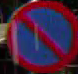No Stopping: (6, 0, 77, 73)
